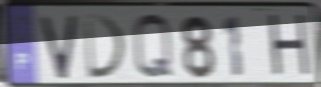1: (222, 14, 246, 79)
8: (179, 13, 218, 81)
D: (82, 14, 130, 82)
H: (266, 12, 314, 82)
Q: (131, 12, 176, 83)
V: (38, 13, 81, 82)
